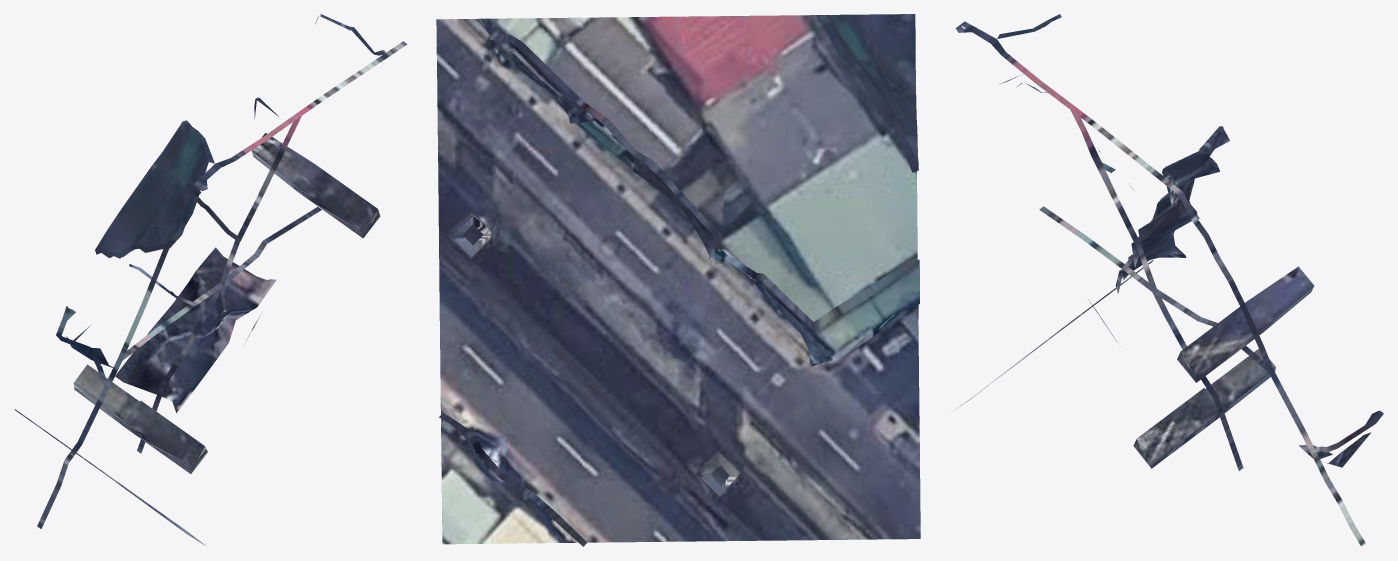
3 views of the same model, side by side, from view 1: azimuth 30°, elevation 25°; view 2: azimuth 150°, elevation 25°; view 3: azimuth 270°, elevation 25° (orthographic). The views are drawn at different scales.
Size of the model in its own units: 39.4 by 37.42 by 33.78.
1 material, 1 textured.
